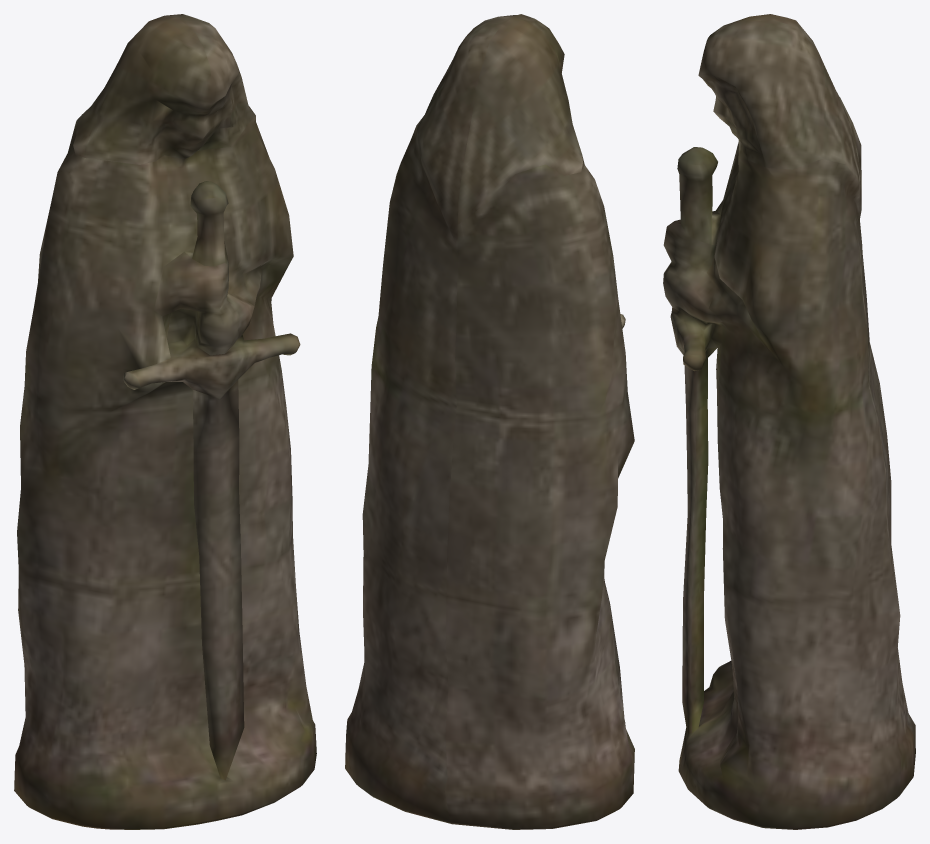
File: t3_statue_underworld.glb
3 views of the same model, side by side, from view 1: azimuth 30°, elevation 25°; view 2: azimuth 150°, elevation 25°; view 3: azimuth 270°, elevation 25° (orthographic). The views are drawn at different scales.
Visible parts, largest first — view 1: env_underworld_statues_02; view 2: env_underworld_statues_02; view 3: env_underworld_statues_02.
Boxes of the visible parts, x1,y1,x2,y2 form: env_underworld_statues_02: (14,14,316,829); env_underworld_statues_02: (345,14,634,829); env_underworld_statues_02: (663,14,915,829).
Bounding box in the file's own units: 2.13 × 5.65 × 1.74.
Materials: 1 (1 with a texture image).
